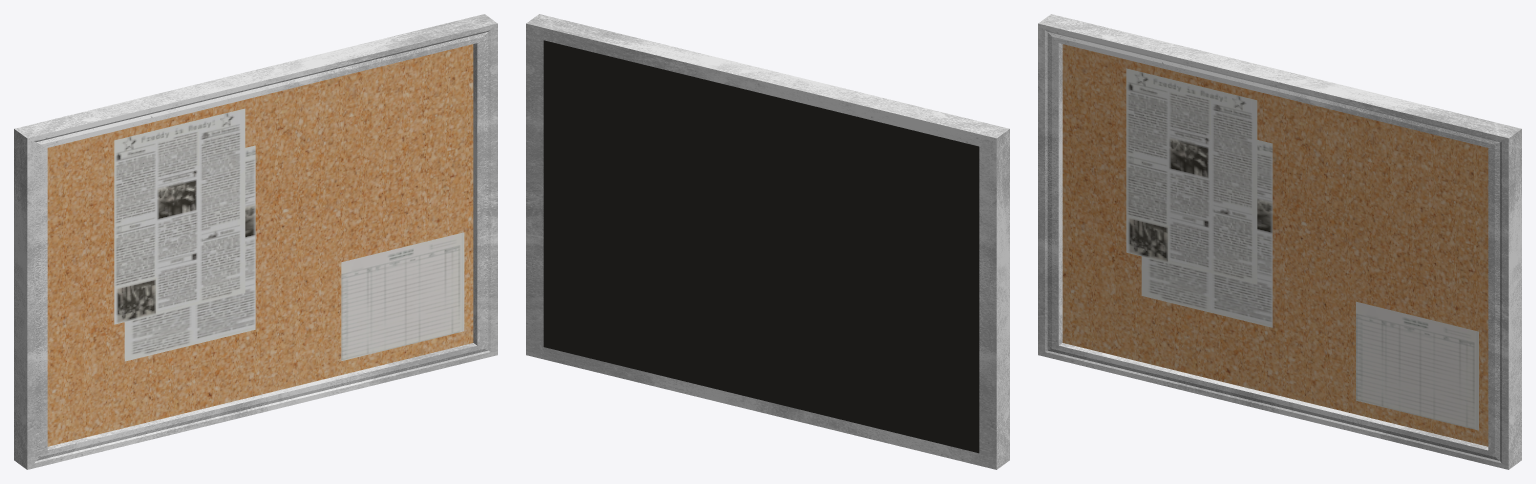
Rendered from Corkboard 2.fbx.
The picture shows the model from 3 angles, left to right: view 1: azimuth 30°, elevation 25°; view 2: azimuth 150°, elevation 25°; view 3: azimuth 330°, elevation 25°; orthographic projection.
Parts seen in each view (by area): view 1: Plane.004; view 2: Plane.004; view 3: Plane.004.
Part boxes in pixels (x1,y1,x2,y2): Plane.004: (14, 14, 497, 469); Plane.004: (526, 14, 1009, 469); Plane.004: (1038, 14, 1521, 469).
Size of the model in its own units: 102 by 68.54 by 4.92.
